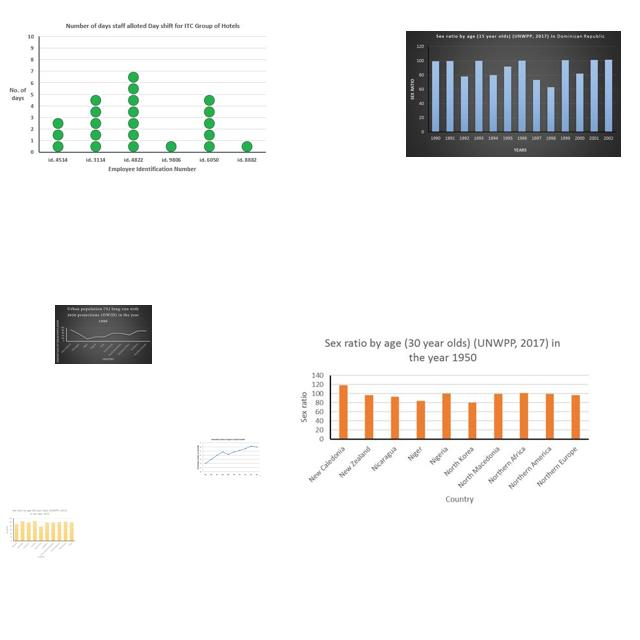Graph: (291, 332, 592, 508), (4, 16, 271, 181), (406, 31, 621, 157), (55, 305, 152, 364), (4, 508, 76, 559), (196, 437, 261, 477)
